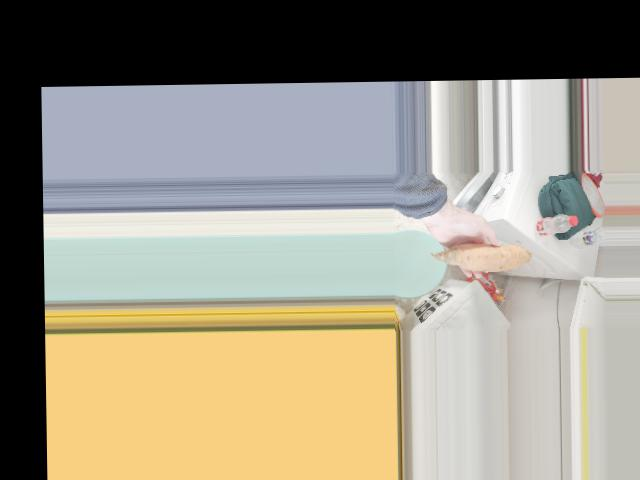sweet_potato: (450, 236, 519, 268)
